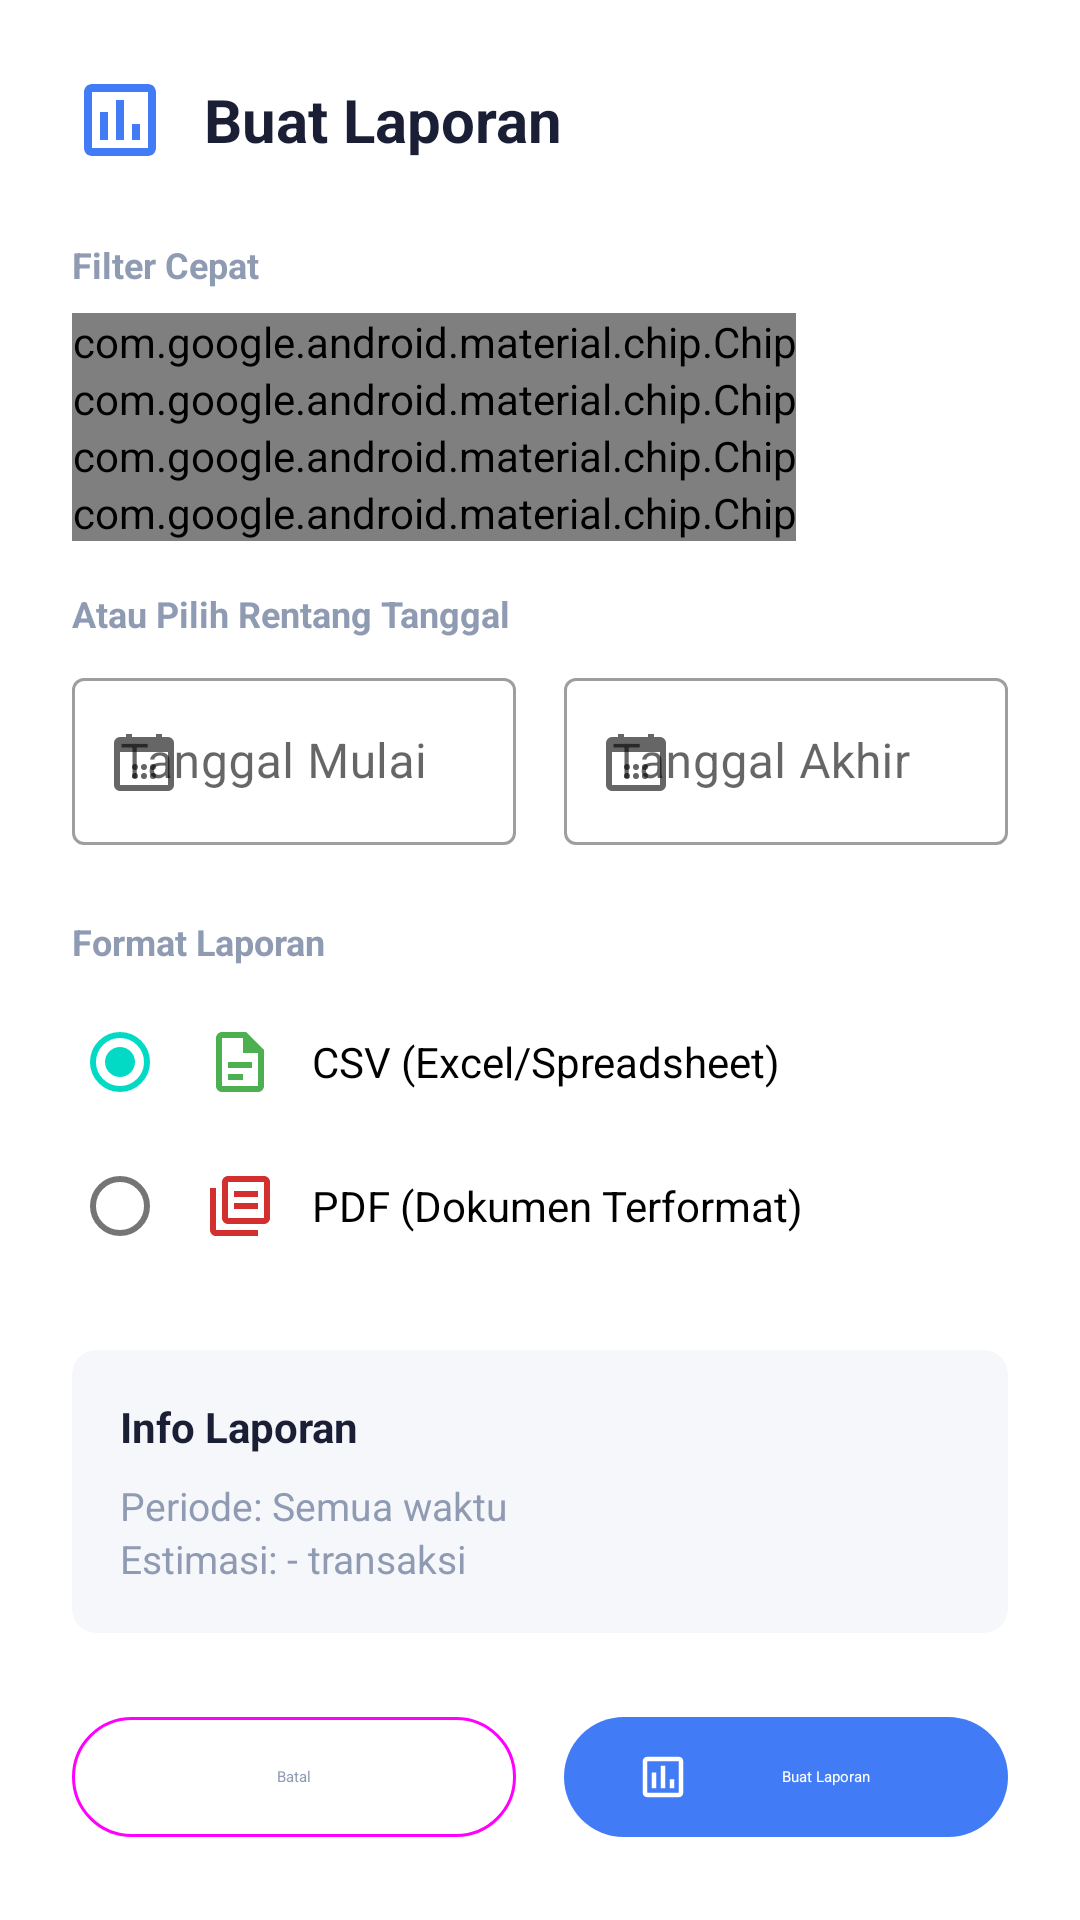

Screen size 1080px x 1920px. Icon name, then its box in pixels as (x1, y1, x2, y2):
report: (84, 84, 156, 156)
